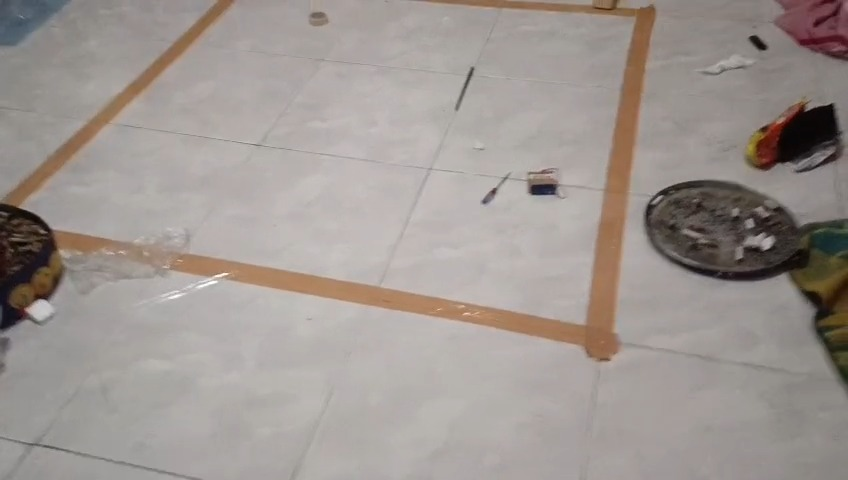floor marking: (173, 7, 655, 359), (4, 0, 231, 204), (57, 231, 123, 251)
